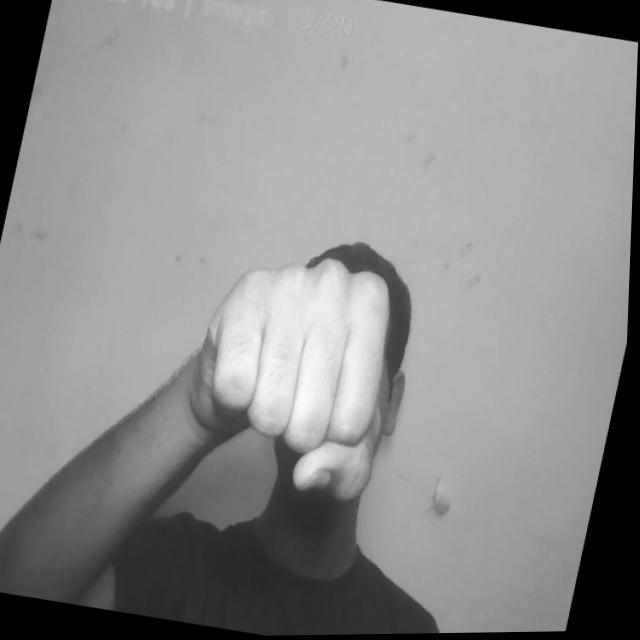Yes: (173, 232, 421, 509)
